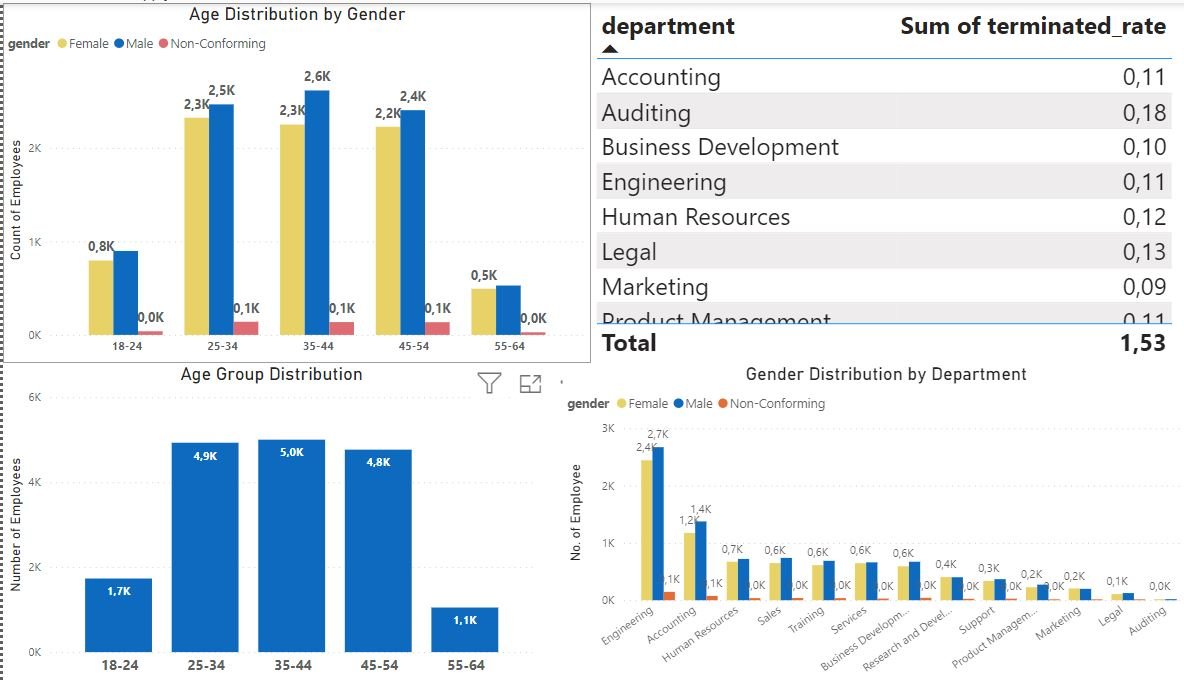

What the dashboard file says about the page in this screenshot:
{"tool":"powerbi","page":{"name":"Department","canvas":[1280,720],"ordinal":1},"visuals":[{"type":"columnChart","title":"Age Group Distribution","fields":{"Category":["age_group.age_group"],"Y":["Sum(age_group.count)"]},"box":[0,381.5,569,340.1],"z":0},{"type":"clusteredColumnChart","title":"Age Distribution by Gender ","fields":{"Category":["age_group_gender.age_group"],"Series":["age_group_gender.gender"],"Y":["Sum(age_group_gender.count)"]},"box":[0,0,623,381.5],"z":1000},{"type":"tableEx","fields":{"Values":["turnover_rate (2).department","turnover_rate.terminated_rate"]},"box":[623,0,656.4,381.5],"z":2000},{"type":"clusteredColumnChart","title":"Gender Distribution by Department","fields":{"Category":["gender_dept.department"],"Series":["gender_dept.gender"],"Y":["Sum(gender_dept.count)"]},"box":[592.8,381.5,686.6,340.1],"z":3000}]}

Visuals, with their boxes in screenshot pixels (x1, y1, x2, y2), scaled from the page's 1280x720 canvas onto the 1184x683 screenshot:
"Age Group Distribution" columnChart: (x1=0, y1=362, x2=526, y2=682)
"Age Distribution by Gender " clusteredColumnChart: (x1=0, y1=0, x2=576, y2=362)
tableEx - turnover_rate (2).department x turnover_rate.terminated_rate: (x1=576, y1=0, x2=1183, y2=362)
"Gender Distribution by Department" clusteredColumnChart: (x1=548, y1=362, x2=1183, y2=682)
